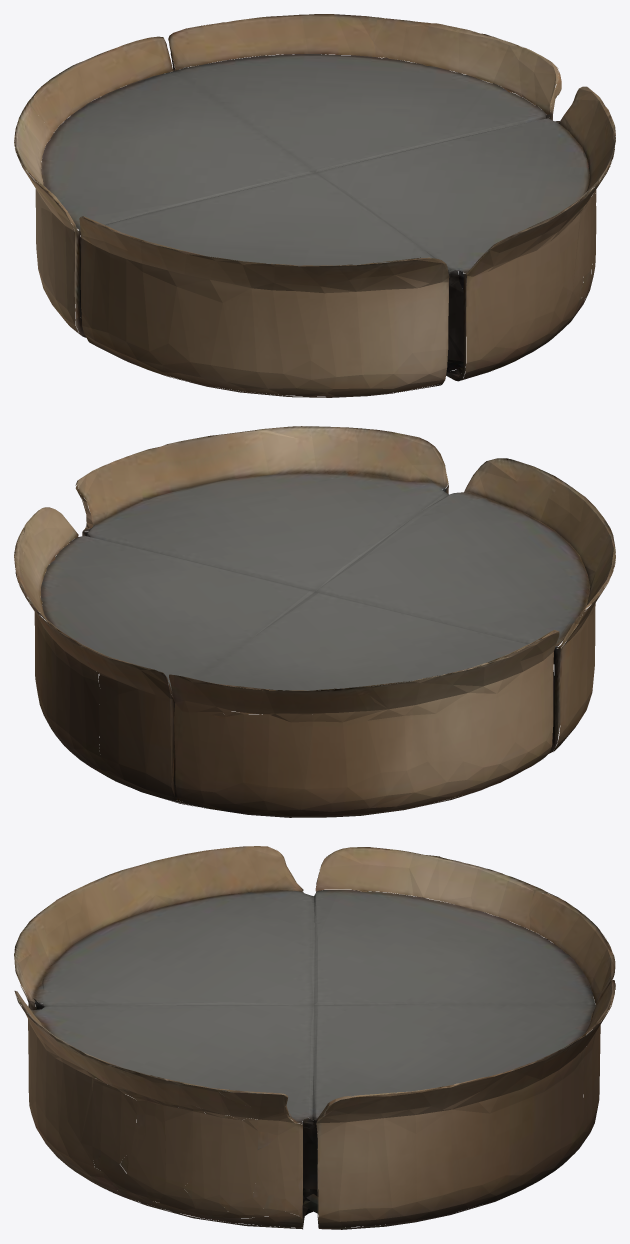
File: c-table-basse.glb
3 renders of one model, top to bottom at view 1: azimuth 30°, elevation 25°; view 2: azimuth 150°, elevation 25°; view 3: azimuth 270°, elevation 25°, orthographic.
Parts seen in each view (by area): view 1: geometry_0; view 2: geometry_0; view 3: geometry_0.
Boxes of the visible parts, x1=… form: geometry_0: x1=14, y1=14, x2=615, y2=397; geometry_0: x1=14, y1=426, x2=615, y2=817; geometry_0: x1=14, y1=846, x2=615, y2=1229.
Bounding box in the file's own units: 0.9837 × 0.2945 × 0.999.
1 material, 1 textured.
